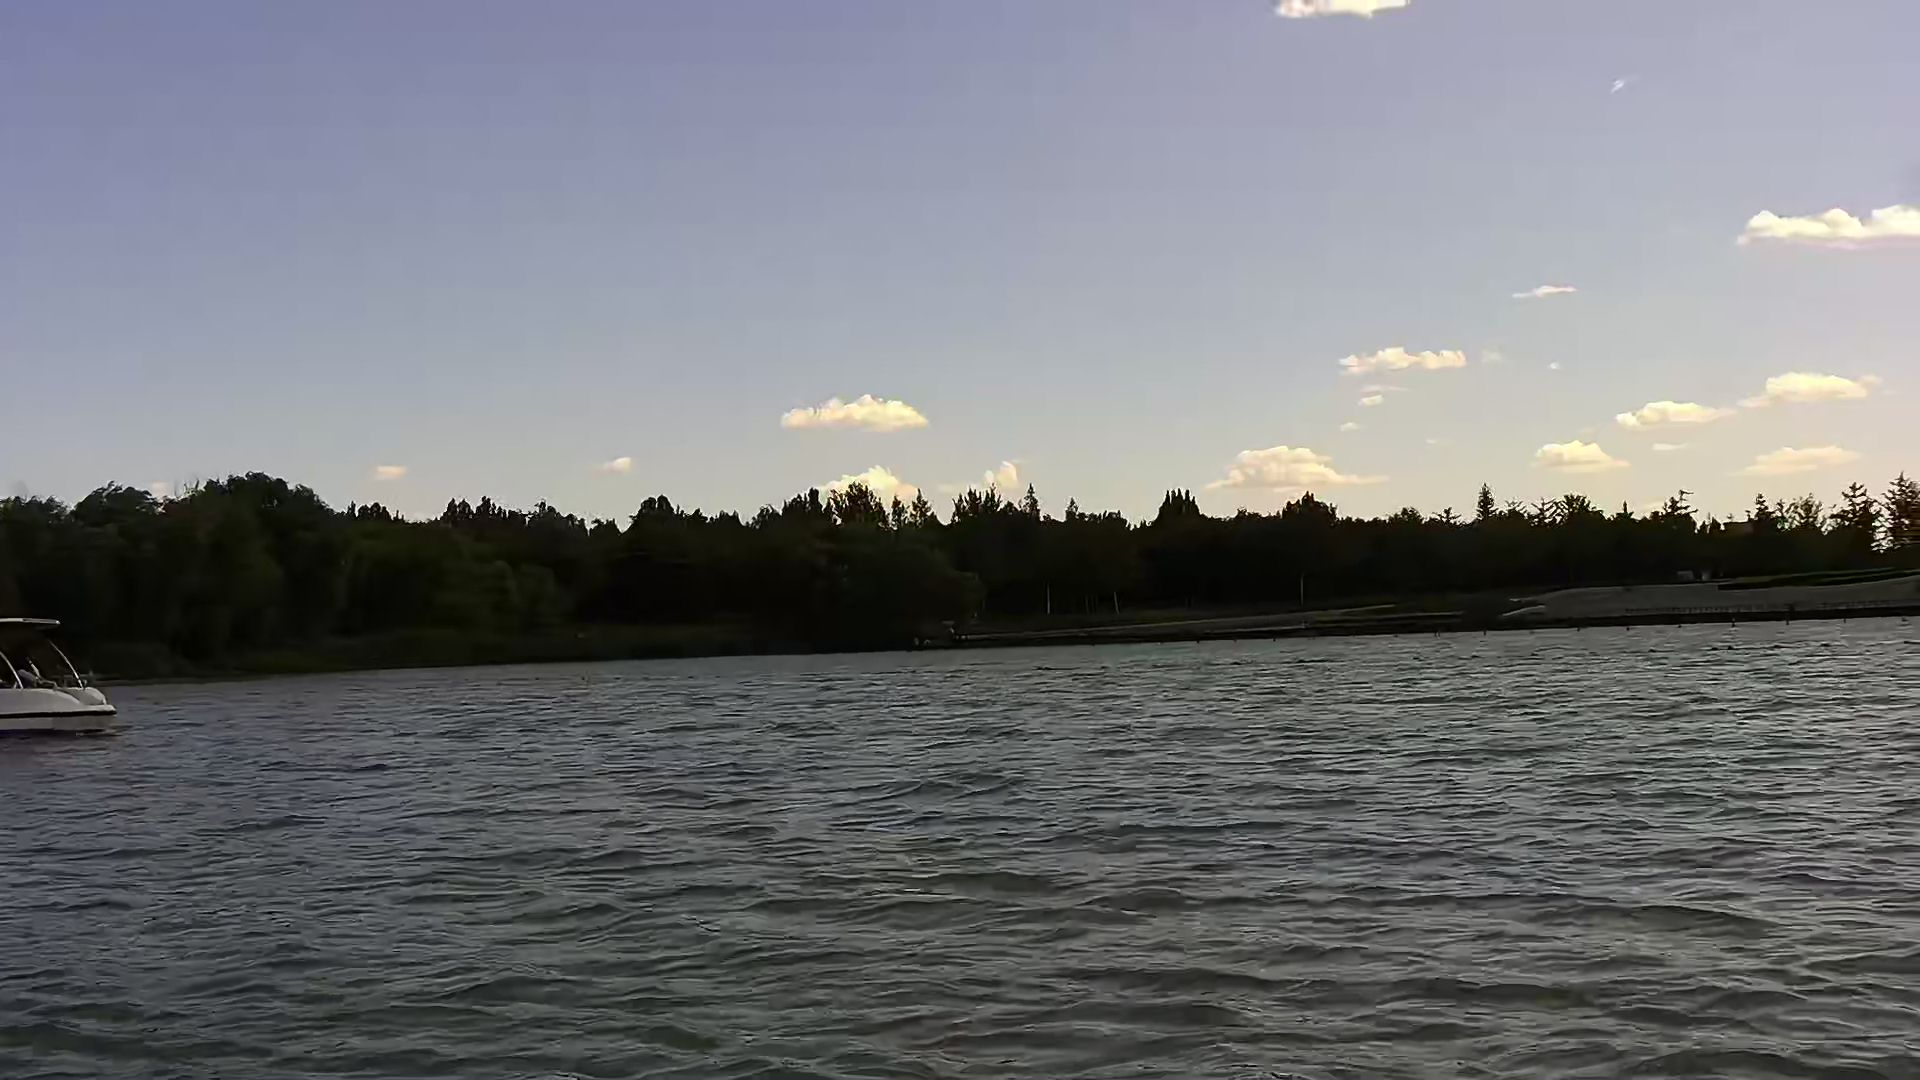boat: (1, 609, 138, 760)
